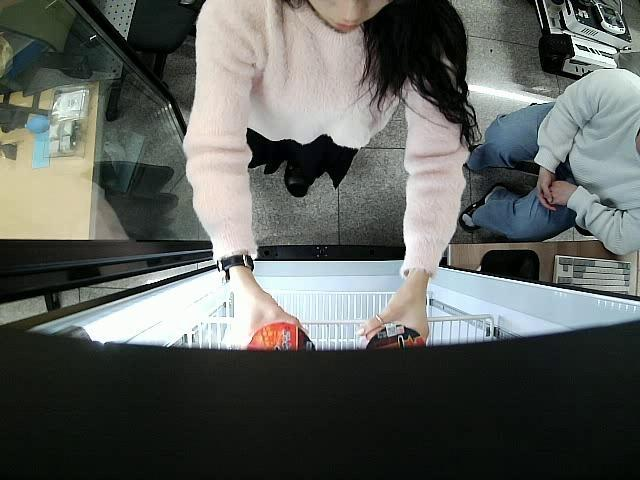02_shinRamen_S: (241, 316, 315, 352), (358, 325, 426, 352)
